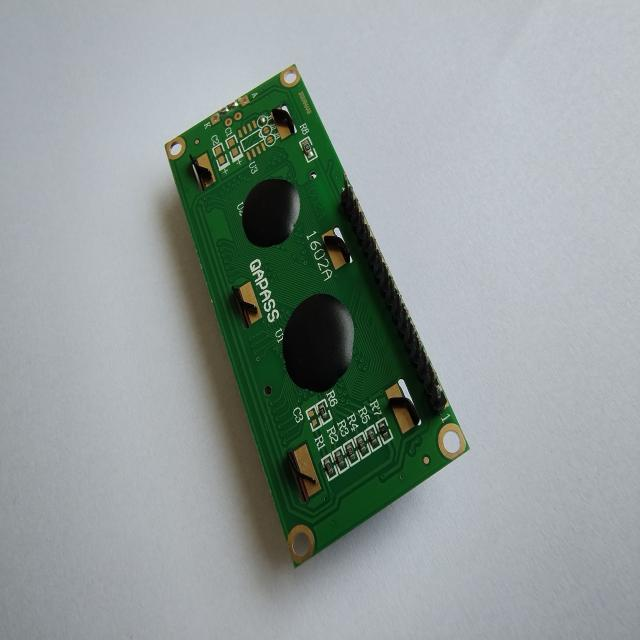lcd: (163, 62, 471, 569)
